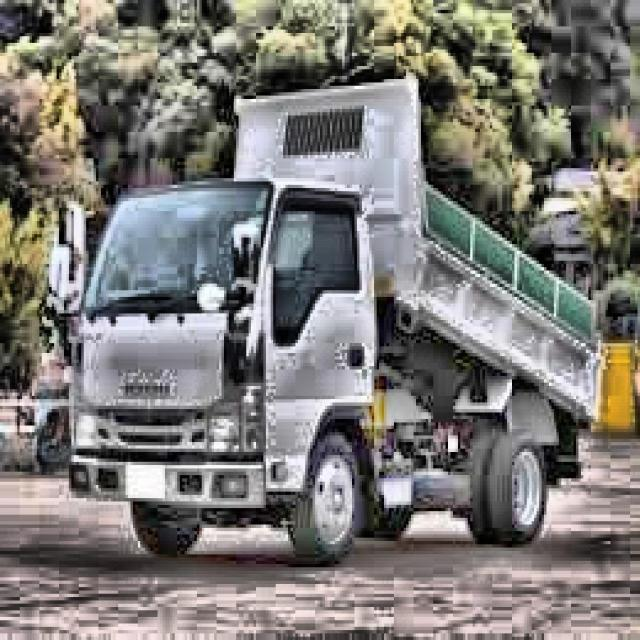dump_truck: (50, 72, 604, 565)
